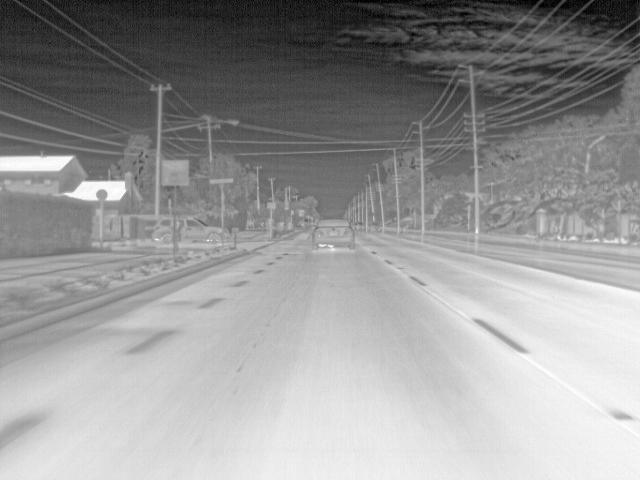car: (185, 213, 232, 246), (312, 219, 357, 253), (145, 216, 170, 244), (369, 220, 381, 232), (358, 221, 365, 232)
person: (170, 216, 183, 250)
